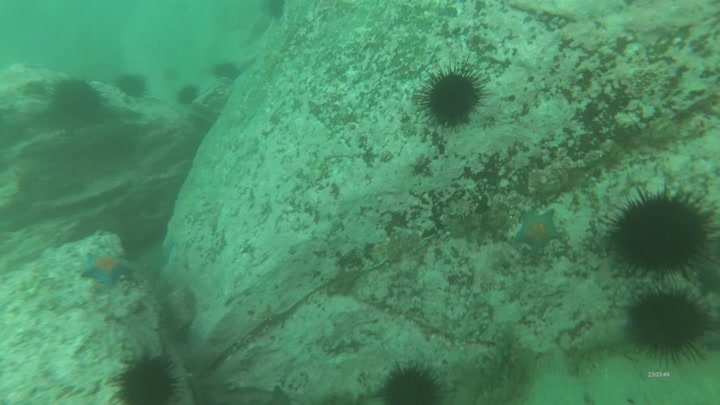echinus: (599, 182, 720, 286), (623, 283, 720, 370), (413, 51, 496, 135), (110, 350, 190, 405), (376, 357, 450, 405), (45, 74, 112, 124), (112, 73, 153, 100), (211, 60, 243, 82), (176, 84, 203, 106), (264, 1, 287, 23)
starfish: (513, 206, 562, 258), (80, 250, 140, 289)
